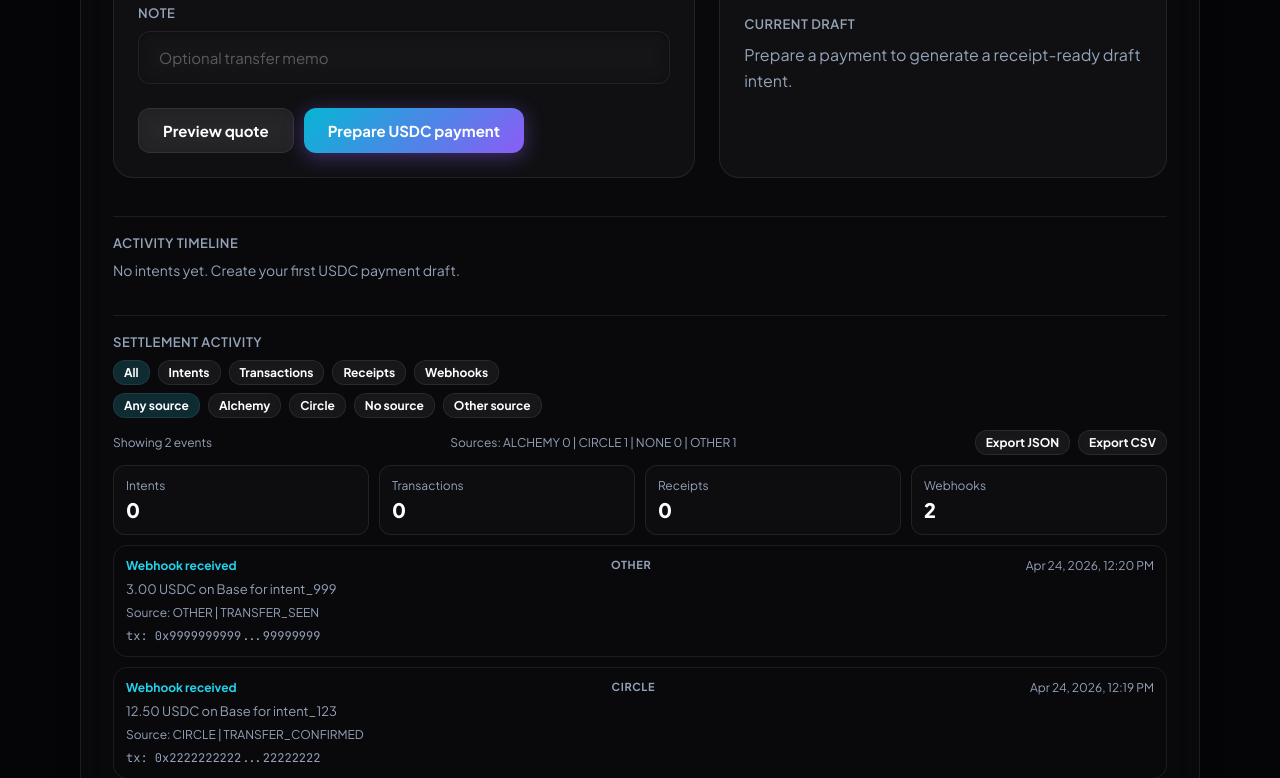
Test: ProductionWalletApp › filters settlement activity to unknown webhook providers as OTHER
(page scrolled)
Expected: the text "Showing 2 events" is shown, x1=113 y1=435 x2=212 y2=450
Expected: the text "Sources: ALCHEMY 0 | CIRCLE 1 | NONE 0 | OTHER 1" is shown, x1=450 y1=435 x2=737 y2=450
Click the button "Other source".
click(492, 406)  # box x1=443 y1=393 x2=542 y2=418
(page scrolled)
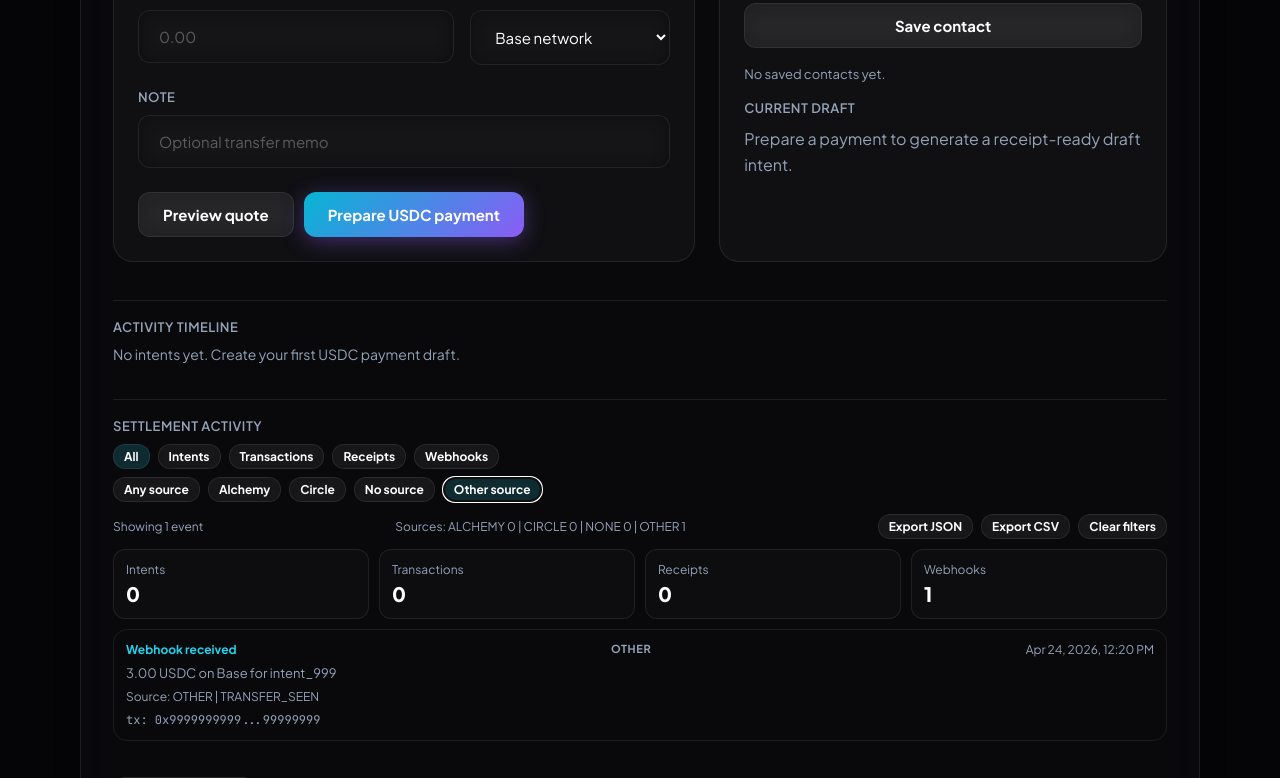
Expected: the text "Showing 1 event" is shown, x1=113 y1=519 x2=203 y2=534
Expected: the text "Sources: ALCHEMY 0 | CIRCLE 0 | NONE 0 | OTHER 1" is shown, x1=395 y1=519 x2=686 y2=534
Expected: the text "Source: CIRCLE" is gone
